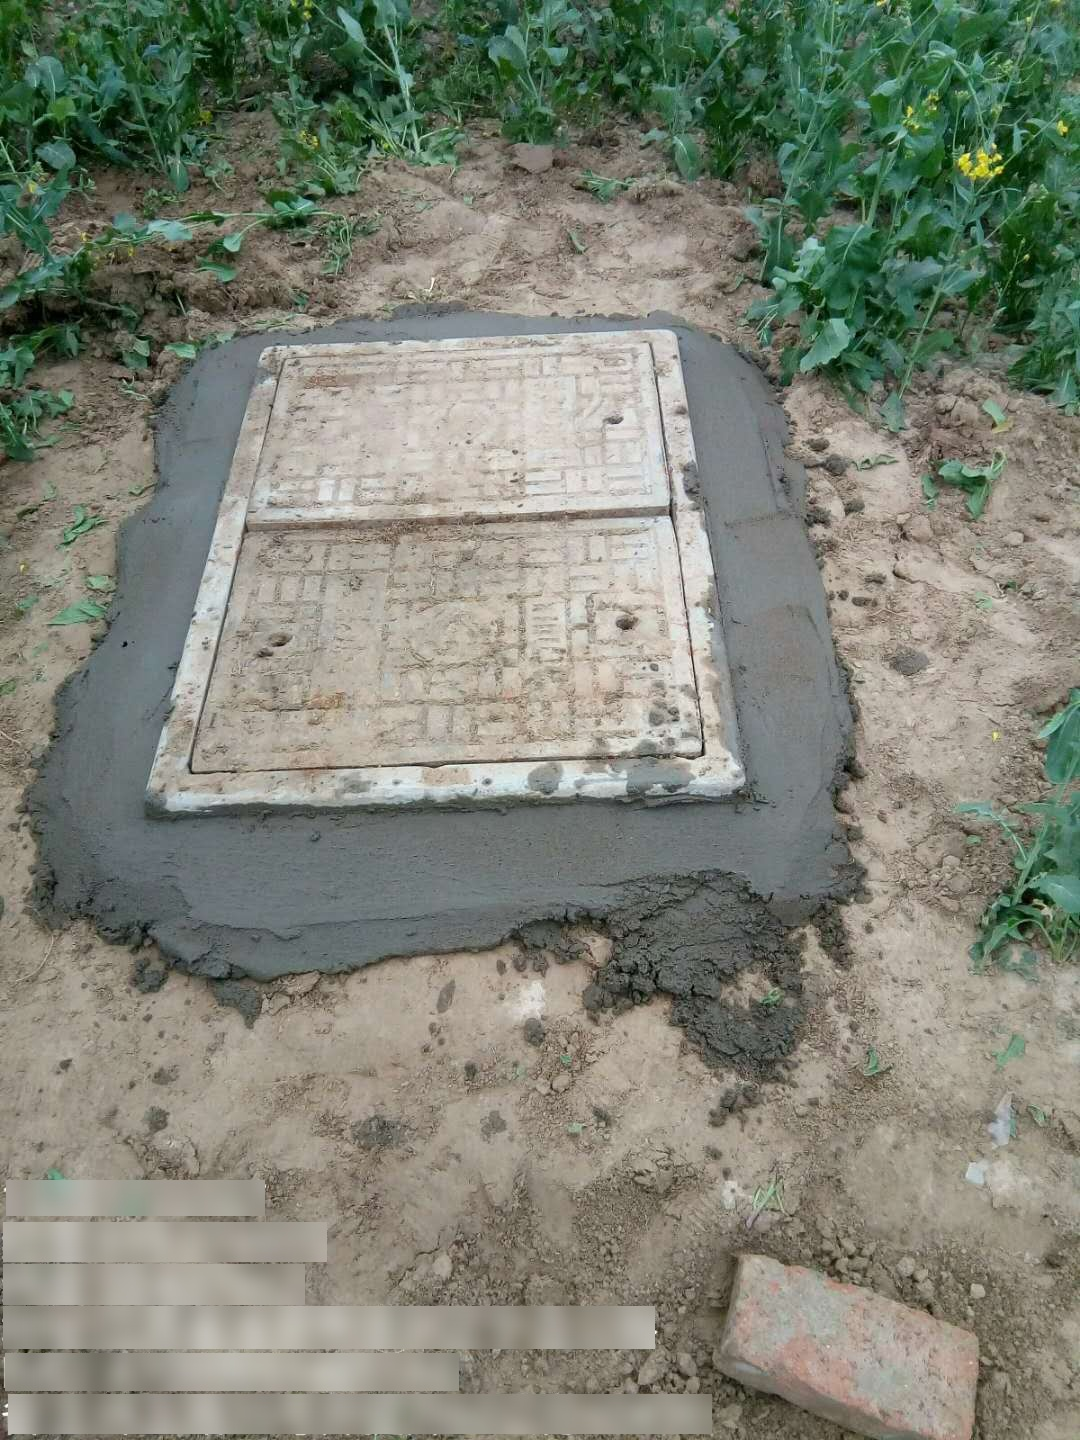well: (138, 321, 751, 814)
